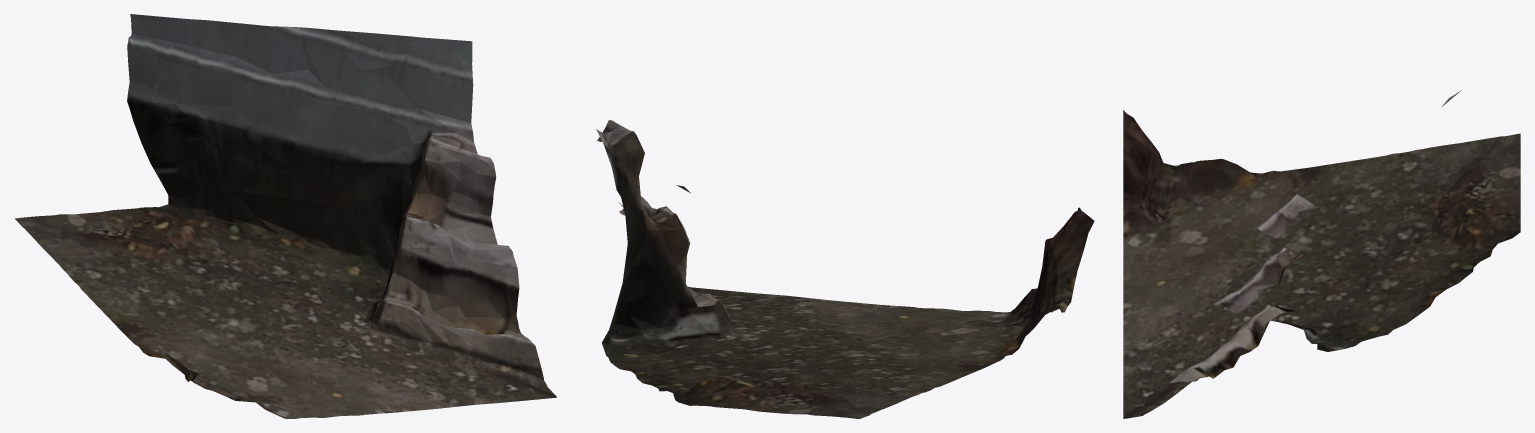
The picture shows the model from 3 angles, left to right: view 1: azimuth 30°, elevation 25°; view 2: azimuth 150°, elevation 25°; view 3: azimuth 270°, elevation 25°; orthographic projection. The views are drawn at different scales.
Size of the model in its own units: 1.67 by 1.36 by 1.67.
4 materials, 4 textured.
